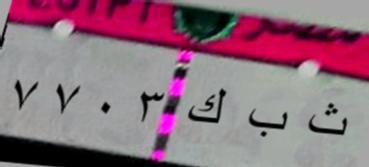0: (96, 96, 115, 121)
3: (137, 85, 165, 128)
7: (10, 74, 39, 114), (49, 80, 82, 115)
baa: (246, 104, 290, 142)
kaaf: (187, 82, 230, 132)
thaa: (304, 98, 350, 140)
